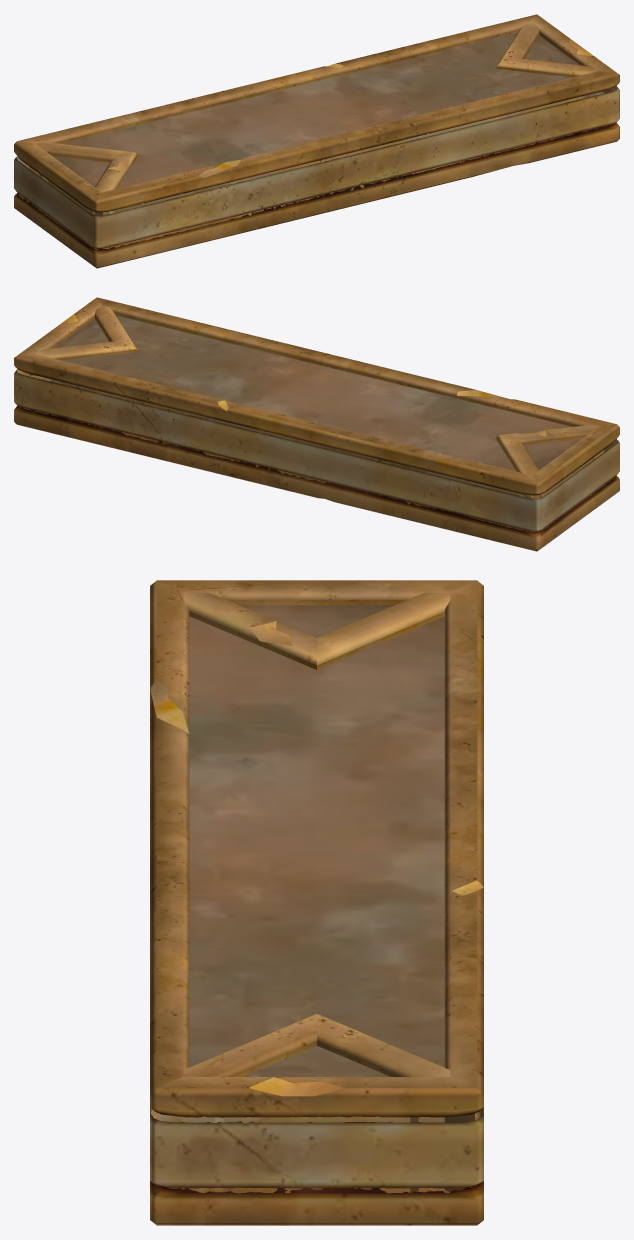
3 views of the same model, one above another, from view 1: azimuth 30°, elevation 25°; view 2: azimuth 150°, elevation 25°; view 3: azimuth 270°, elevation 25° (orthographic). The views are drawn at different scales.
Visible parts, largest first — view 1: SM_AgilityBeam_2_LOD0; view 2: SM_AgilityBeam_2_LOD0; view 3: SM_AgilityBeam_2_LOD0.
Part boxes in pixels (left/top/right/bottom): SM_AgilityBeam_2_LOD0: left=14, top=14, right=619, bottom=268; SM_AgilityBeam_2_LOD0: left=14, top=297, right=619, bottom=551; SM_AgilityBeam_2_LOD0: left=150, top=580, right=483, bottom=1225.
Bounding box in the file's own units: 2 × 0.25 × 0.55.
2 materials, 2 textured.
